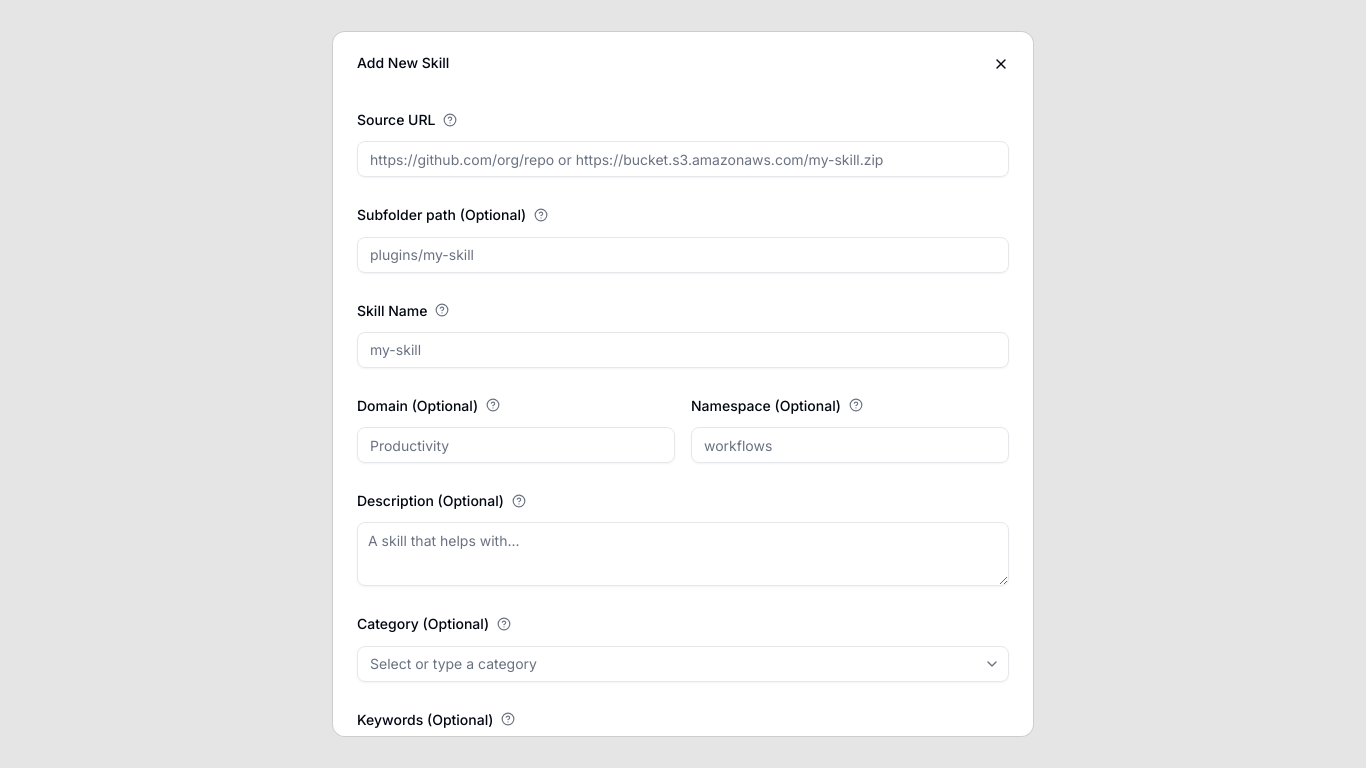
AddPluginForm › blocks submission and shows the digest error for a malformed sha256
Replace the text in the field with placeholder "https://github.com/org/repo or https://bucket.s3.amazonaws.com/my-skill.zip" with "https://skills-bucket.s3.us-east-1.amazonaws.com/plugins/s3-skill-1.0.0.zip": {"x": 683, "y": 159} [357,141,1009,177]
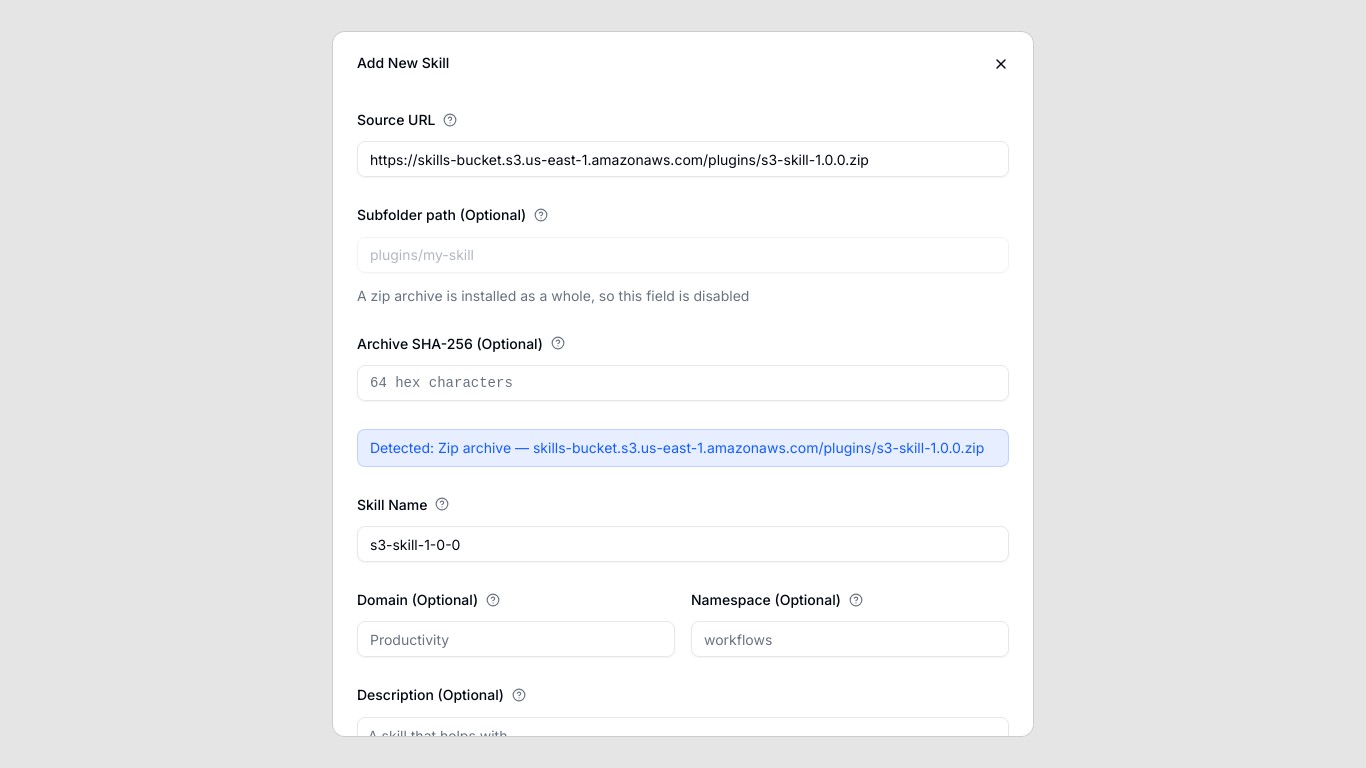
In the field with placeholder "64 hex characters": {"x": 683, "y": 383} [357,365,1009,401], type "not-a-digest"
(page scrolled)
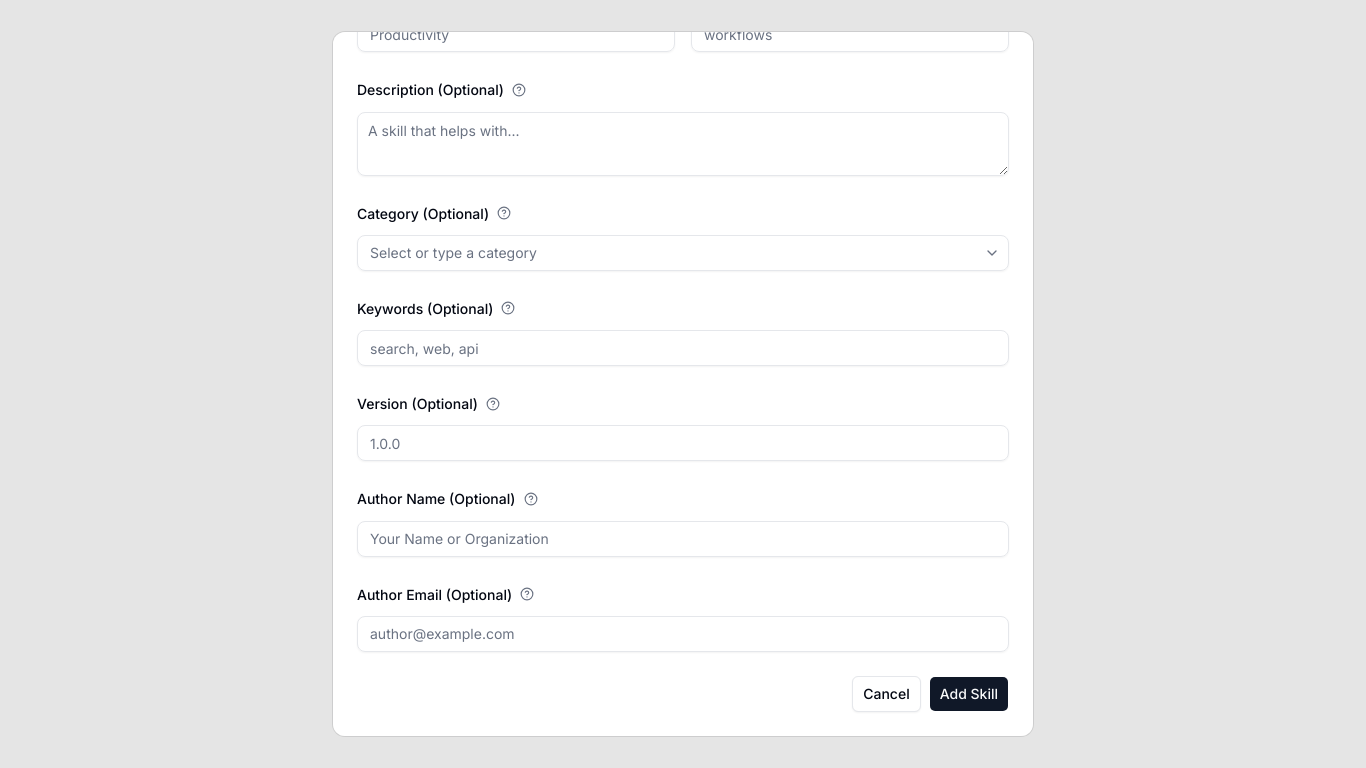
Click the button "Add Skill": {"x": 969, "y": 694} [929,676,1009,712]
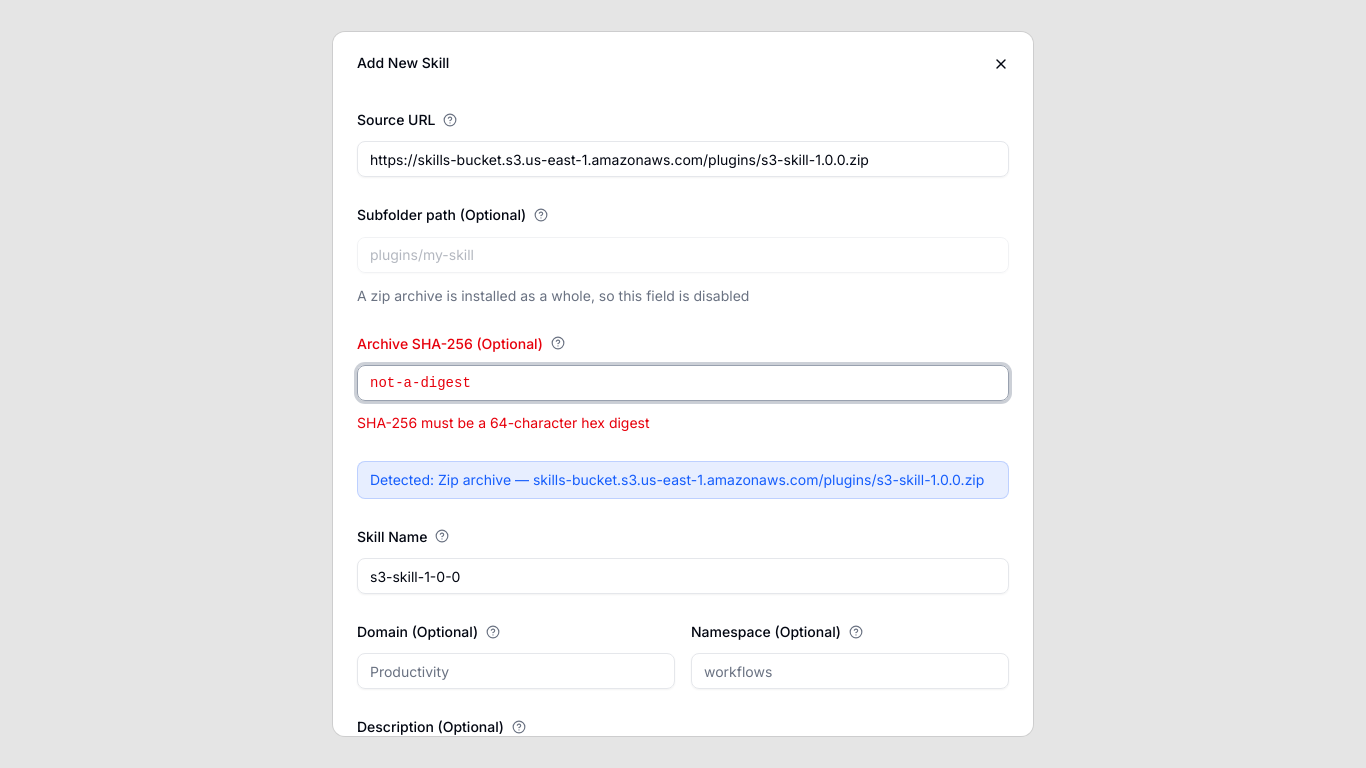
expect the text "SHA-256 must be a 64-character hex digest" is shown: met, box [357,414,650,431]
